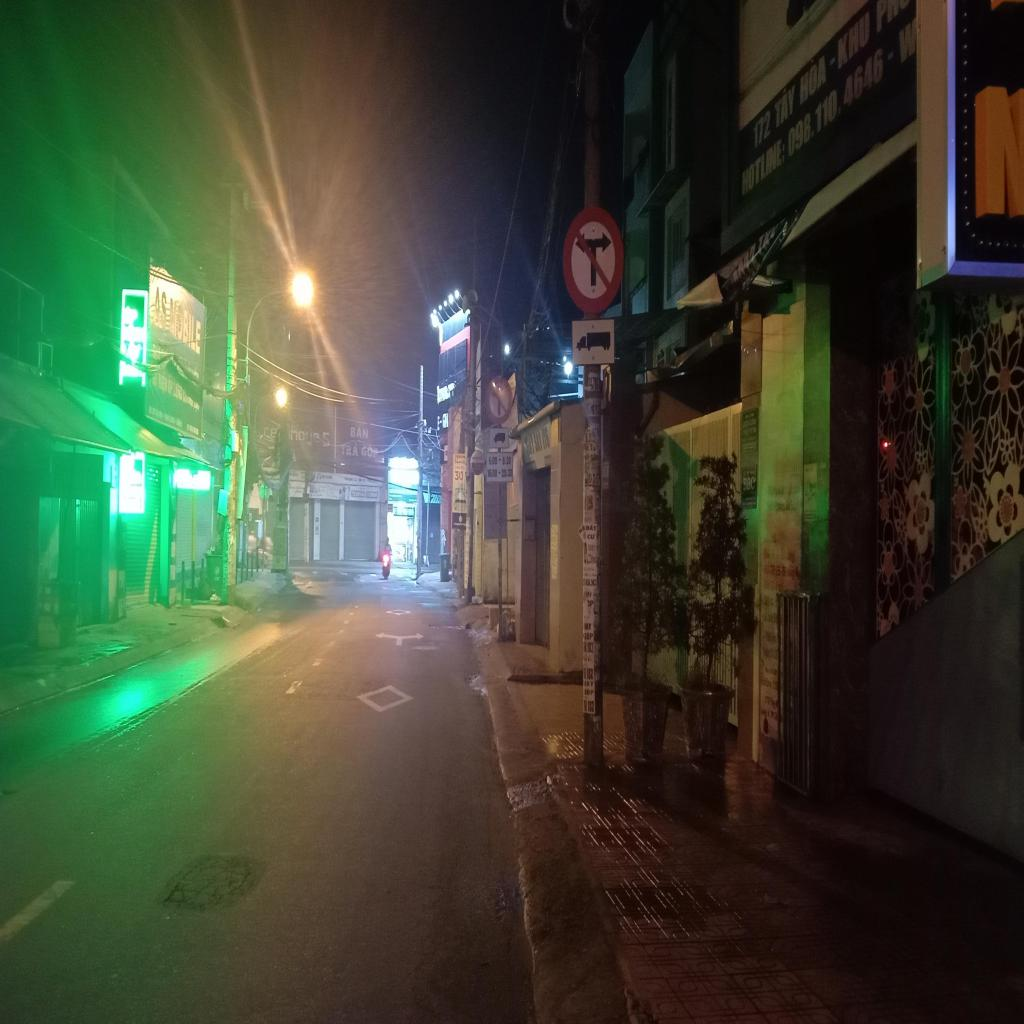cam_re_trai_va_phai: (562, 206, 625, 318), (488, 374, 514, 422)
khac: (572, 320, 614, 362), (487, 450, 513, 480), (488, 424, 508, 452)
